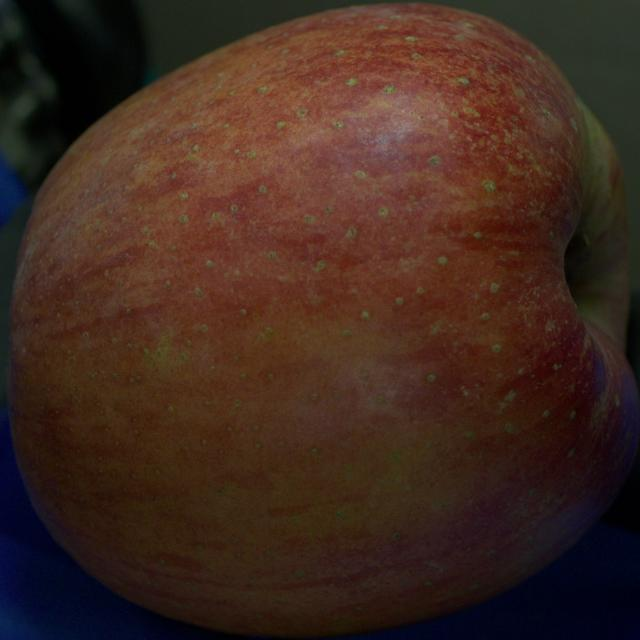apple: (7, 4, 639, 636)
